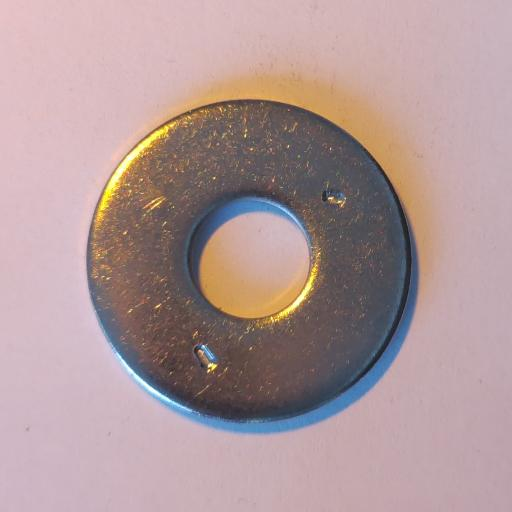circular_cavity: (194, 343, 219, 374), (322, 188, 348, 208)
